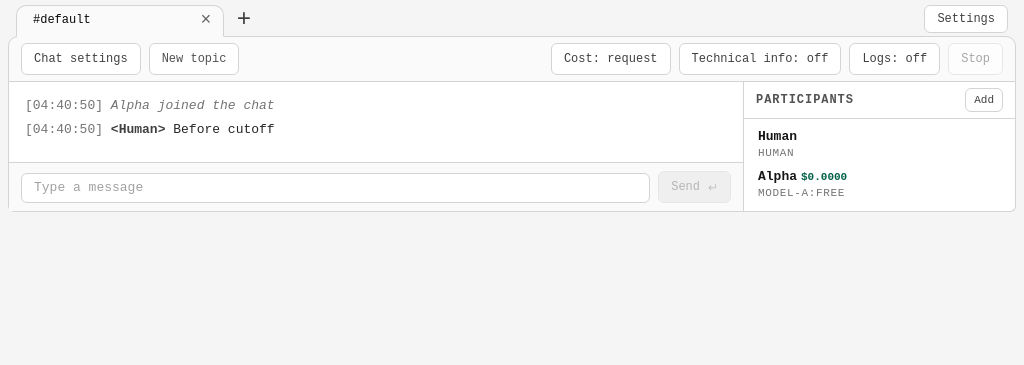
Test: MultiAgentChat history controls › clears older messages when clicking the cutoff link
Click the button with class "toolbar-button" showing "Technical info: off" at [760, 59], box [678,43,841,75]
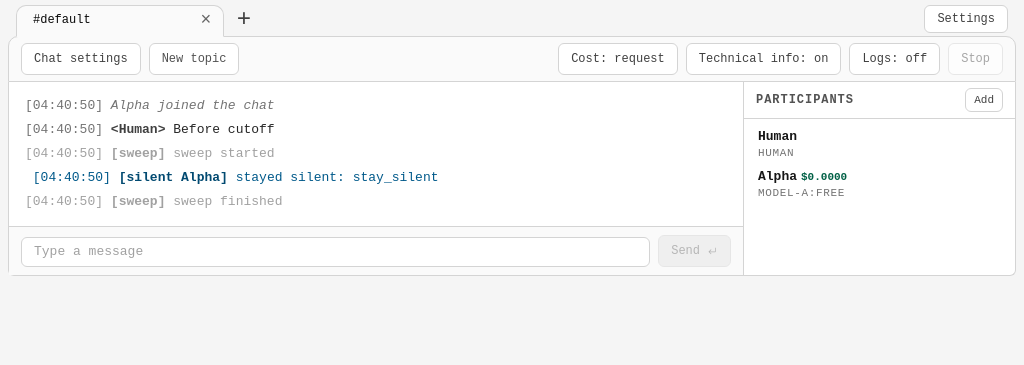
Click the button with class "toolbar-button" showing "New topic" at [194, 59], box [149,43,239,75]
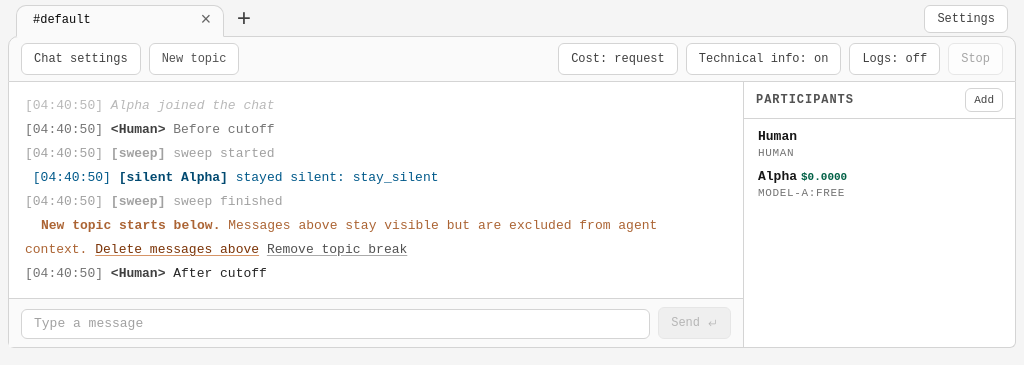
Click the button with class "cutoff-link" showing "Delete messages above" at [177, 250], box [95,242,259,257]
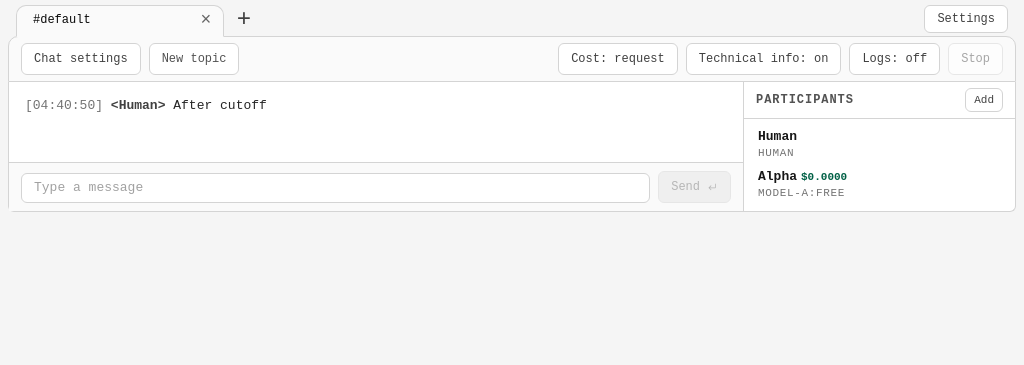
expect the text "After cutoff" is shown: met, box [173,98,267,113]
expect the text "New topic starts below." is gone: met
expect the text "Before cutoff" is gone: met
